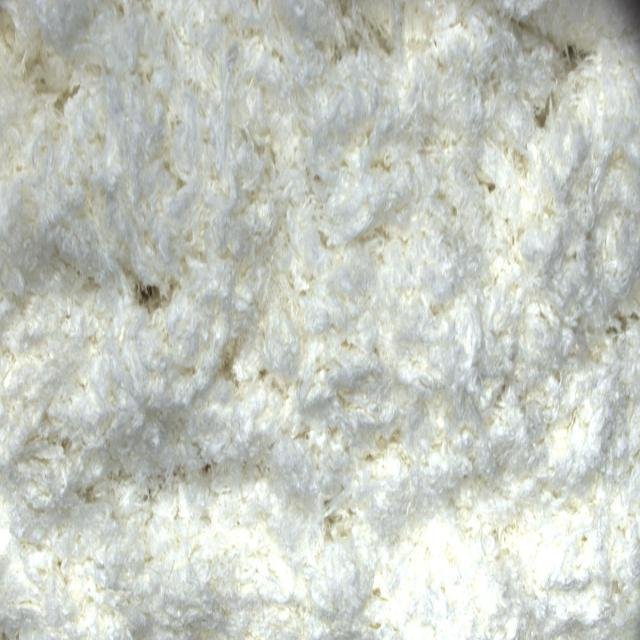dust: (138, 275, 162, 317), (561, 37, 587, 73)
